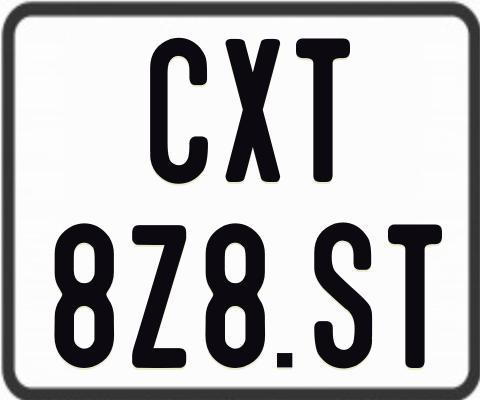8: (53, 223, 116, 374), (203, 223, 267, 368)
C: (149, 37, 207, 187)
S: (311, 222, 369, 374)
T: (386, 221, 446, 365), (295, 35, 353, 180)
X: (225, 36, 279, 180)
Z: (130, 223, 186, 368)
